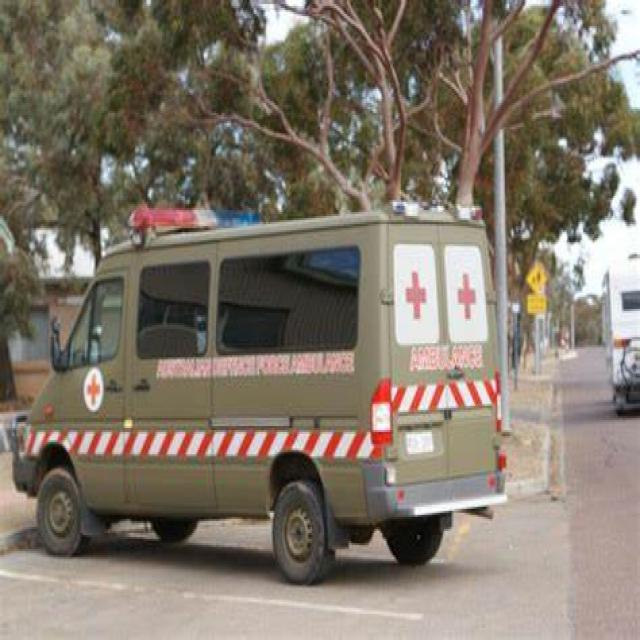ambulance: (132, 193, 267, 240)
